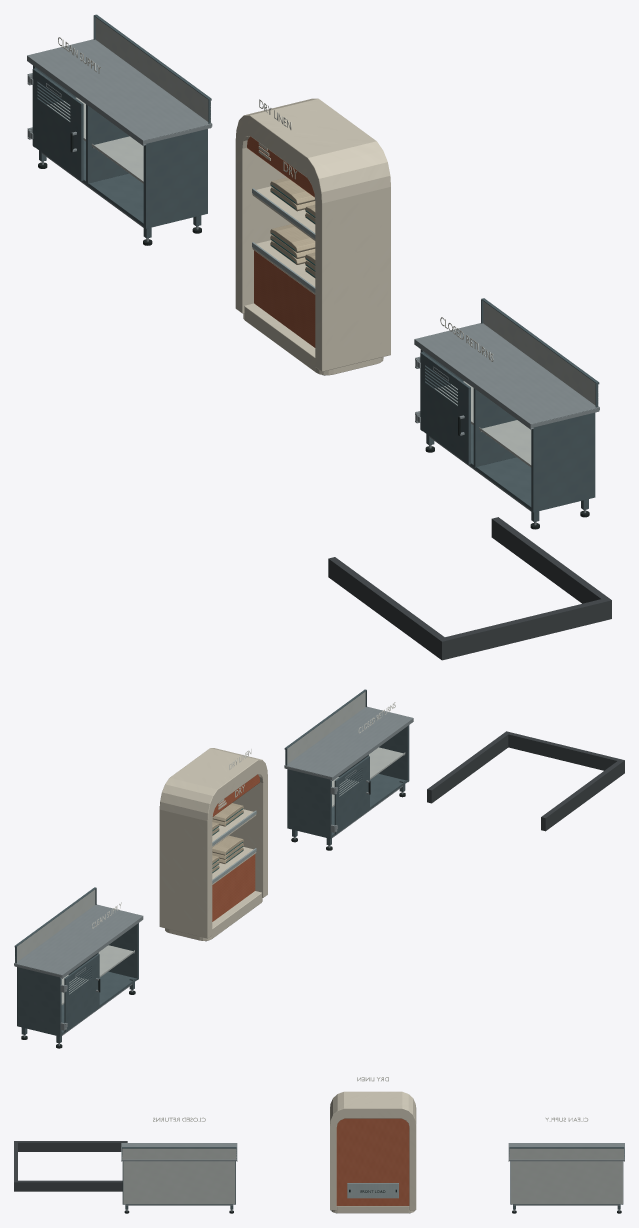
The model's file is TidalD13LocalServiceFittings.glb.
The picture shows the model from 3 angles, top to bottom: view 1: azimuth 30°, elevation 25°; view 2: azimuth 150°, elevation 25°; view 3: azimuth 270°, elevation 25°; orthographic projection. The views are drawn at different scales.
Visible parts, largest first — view 1: D13_CleanLinenNiche__dry_continuous_sculpted_hood, D13_ClosedReturnsHoldingCupboard__COUNTER_continuous_rolled_, D13_CleanProductWorkCupboard__COUNTER_continuous_rolled_nose, D13_ClosedReturnsHoldingCupboard__BODY_R_formed_side_channel, D13_CleanProductWorkCupboard__BODY_R_formed_side_channel, D13_ParkingEndStop, D13_CleanProductWorkCupboard__DOOR_perforated_folded_leaf, D13_ClosedReturnsHoldingCupboard__DOOR_perforated_folded_lea, D13_CleanLinenNiche__dry_lower_stock_guard, D13_ParkingWestBumper, D13_ParkingEastBumper, D13_CleanProductWorkCupboard__BACKBOARD_washable_splash_shee (+9 smaller); view 2: D13_CleanLinenNiche__dry_continuous_sculpted_hood, D13_ClosedReturnsHoldingCupboard__COUNTER_continuous_rolled_, D13_CleanProductWorkCupboard__COUNTER_continuous_rolled_nose, D13_ClosedReturnsHoldingCupboard__BODY_L_formed_side_channel, D13_CleanProductWorkCupboard__BODY_L_formed_side_channel, D13_CleanProductWorkCupboard__DOOR_perforated_folded_leaf, D13_ClosedReturnsHoldingCupboard__DOOR_perforated_folded_lea, D13_ParkingEndStop, D13_CleanLinenNiche__dry_lower_stock_guard, D13_ParkingWestBumper, D13_ParkingEastBumper, D13_CleanProductWorkCupboard__BACKBOARD_washable_splash_shee (+8 smaller); view 3: D13_CleanLinenNiche__dry_opaque_restock_back, D13_ClosedReturnsHoldingCupboard__BODY_washable_rear_panel, D13_CleanProductWorkCupboard__BODY_washable_rear_panel, D13_CleanLinenNiche__dry_continuous_sculpted_hood, D13_CleanProductWorkCupboard__BACKBOARD_washable_splash_shee, D13_ClosedReturnsHoldingCupboard__BACKBOARD_washable_splash_, D13_ParkingEastBumper, D13_ParkingWestBumper, D13_CleanProductWorkCupboard__COUNTER_continuous_rolled_nose, D13_ClosedReturnsHoldingCupboard__COUNTER_continuous_rolled_, D13_CleanLinenNiche__dry_rear_service_panel, D13_CleanLinenNiche__dry_bearing_plinth (+4 smaller).
Boxes of the visible parts, bbox=[...] form: D13_CleanLinenNiche__dry_continuous_sculpted_hood: bbox=[235, 98, 390, 371]; D13_ClosedReturnsHoldingCupboard__COUNTER_continuous_rolled_: bbox=[414, 323, 599, 429]; D13_CleanProductWorkCupboard__COUNTER_continuous_rolled_nose: bbox=[27, 39, 212, 145]; D13_ClosedReturnsHoldingCupboard__BODY_R_formed_side_channel: bbox=[531, 412, 595, 512]; D13_CleanProductWorkCupboard__BODY_R_formed_side_channel: bbox=[143, 129, 207, 228]; D13_ParkingEndStop: bbox=[438, 597, 611, 660]; D13_CleanProductWorkCupboard__DOOR_perforated_folded_leaf: bbox=[32, 69, 81, 180]; D13_ClosedReturnsHoldingCupboard__DOOR_perforated_folded_lea: bbox=[420, 352, 469, 464]; D13_CleanLinenNiche__dry_lower_stock_guard: bbox=[254, 250, 315, 347]; D13_ParkingWestBumper: bbox=[328, 557, 444, 657]; D13_ParkingEastBumper: bbox=[491, 517, 607, 603]; D13_CleanProductWorkCupboard__BACKBOARD_washable_splash_shee: bbox=[95, 17, 210, 122]; D13_CleanLinenNiche__dry_continuous_sculpted_hood: bbox=[159, 748, 267, 938]; D13_ClosedReturnsHoldingCupboard__COUNTER_continuous_rolled_: bbox=[284, 706, 413, 780]; D13_CleanProductWorkCupboard__COUNTER_continuous_rolled_nose: bbox=[14, 904, 143, 978]; D13_ClosedReturnsHoldingCupboard__BODY_L_formed_side_channel: bbox=[287, 769, 331, 838]; D13_CleanProductWorkCupboard__BODY_L_formed_side_channel: bbox=[17, 967, 61, 1036]; D13_CleanProductWorkCupboard__DOOR_perforated_folded_leaf: bbox=[65, 954, 99, 1032]; D13_ClosedReturnsHoldingCupboard__DOOR_perforated_folded_lea: bbox=[335, 756, 369, 834]; D13_ParkingEndStop: bbox=[504, 731, 624, 774]; D13_CleanLinenNiche__dry_lower_stock_guard: bbox=[212, 854, 255, 921]; D13_ParkingWestBumper: bbox=[541, 761, 622, 831]; D13_ParkingEastBumper: bbox=[427, 733, 508, 803]; D13_CleanProductWorkCupboard__BACKBOARD_washable_splash_shee: bbox=[15, 889, 95, 962]; D13_CleanLinenNiche__dry_opaque_restock_back: bbox=[336, 1118, 409, 1205]; D13_ClosedReturnsHoldingCupboard__BODY_washable_rear_panel: bbox=[123, 1161, 235, 1203]; D13_CleanProductWorkCupboard__BODY_washable_rear_panel: bbox=[511, 1161, 622, 1203]; D13_CleanLinenNiche__dry_continuous_sculpted_hood: bbox=[330, 1091, 416, 1210]; D13_CleanProductWorkCupboard__BACKBOARD_washable_splash_shee: bbox=[509, 1148, 623, 1159]; D13_ClosedReturnsHoldingCupboard__BACKBOARD_washable_splash_: bbox=[122, 1148, 236, 1159]; D13_ParkingEastBumper: bbox=[18, 1180, 122, 1191]; D13_ParkingWestBumper: bbox=[18, 1141, 127, 1151]; D13_CleanProductWorkCupboard__COUNTER_continuous_rolled_nose: bbox=[508, 1143, 624, 1161]; D13_ClosedReturnsHoldingCupboard__COUNTER_continuous_rolled_: bbox=[121, 1143, 237, 1161]; D13_CleanLinenNiche__dry_rear_service_panel: bbox=[347, 1183, 398, 1198]; D13_CleanLinenNiche__dry_bearing_plinth: bbox=[331, 1206, 414, 1213].
Size of the model in its own units: 2.37 by 2.05 by 9.46.
16 materials, 14 textured.
